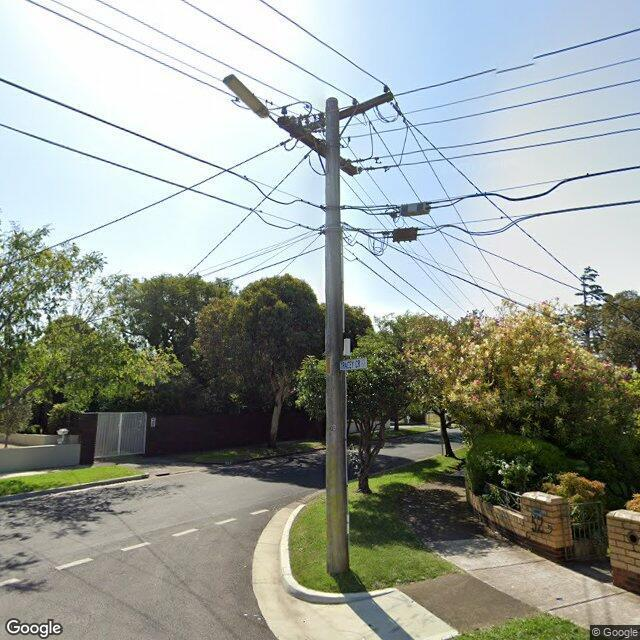crossarm: (277, 116, 357, 174), (302, 92, 393, 132)
streetlight: (222, 74, 278, 124)
timber-pole: (326, 97, 350, 575)
